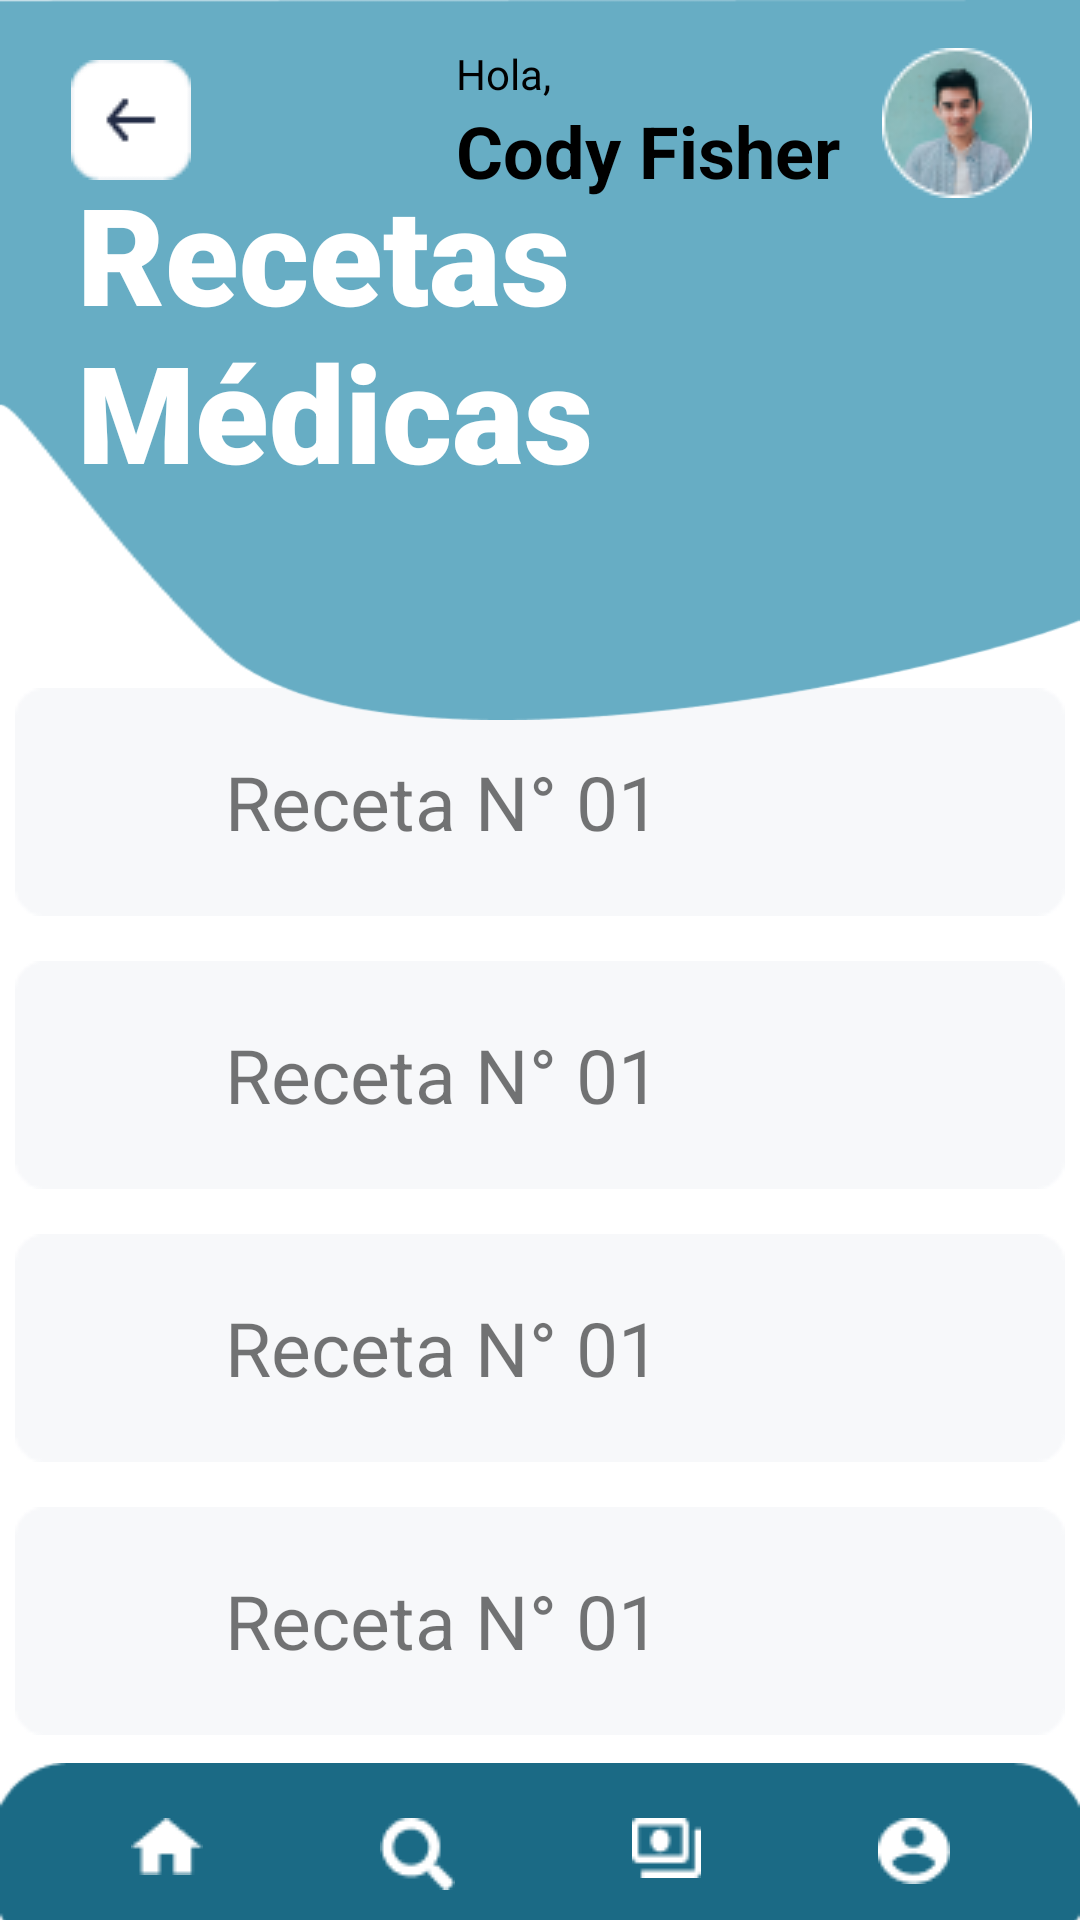

Icon bounding boxes for this 1080 x 1920 phone screenshot, format (x1, y1, x2, y2):
back: (71, 60, 191, 180)
home: (131, 1818, 203, 1875)
payments: (632, 1818, 701, 1878)
profile: (878, 1818, 950, 1884)
search: (380, 1818, 455, 1890)
